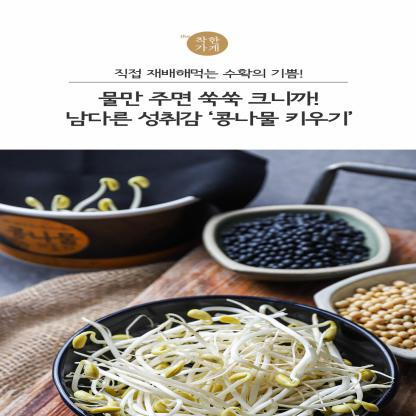bean sprouts: (117, 317, 346, 415)
